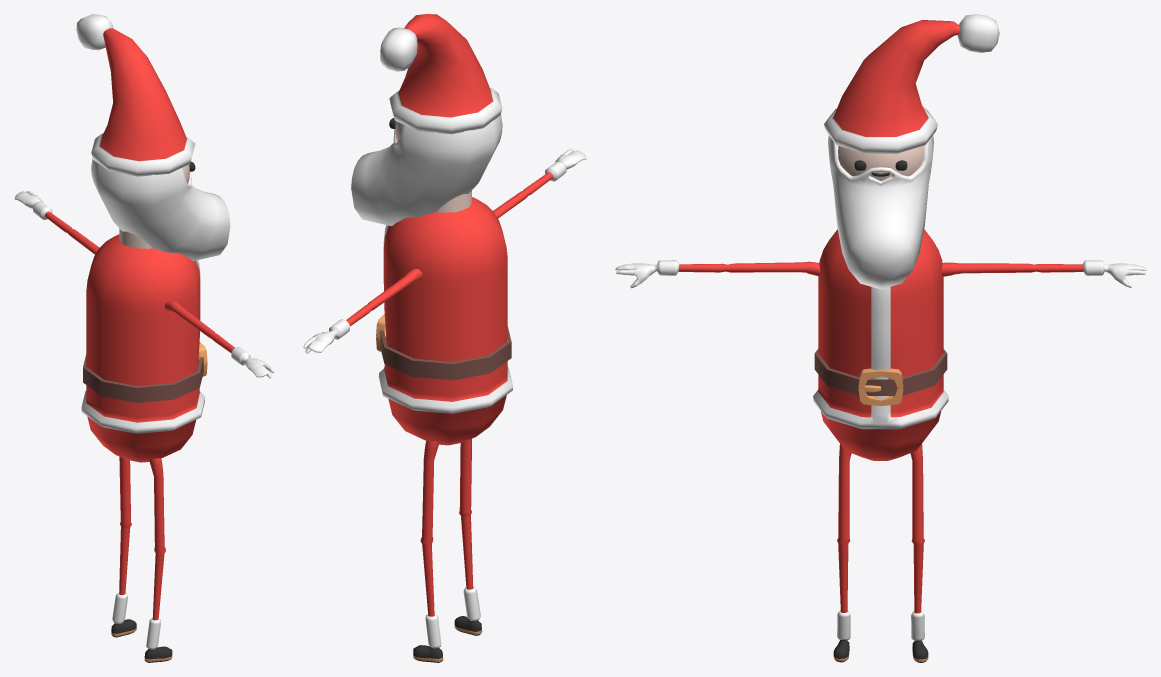
File: Santa.glb
3 renders of one model, left to right at view 1: azimuth 30°, elevation 25°; view 2: azimuth 150°, elevation 25°; view 3: azimuth 270°, elevation 25°, orthographic. The views are drawn at different scales.
Parts seen in each view (by area): view 1: mesh_char_135; view 2: mesh_char_135; view 3: mesh_char_135.
Boxes of the visible parts, x1,y1,x2,y2 form: mesh_char_135: [14, 14, 274, 662]; mesh_char_135: [303, 14, 586, 662]; mesh_char_135: [615, 14, 1146, 662].
Size of the model in its own units: 1.2 by 5.17 by 3.88.
Materials: 1 (1 with a texture image).
